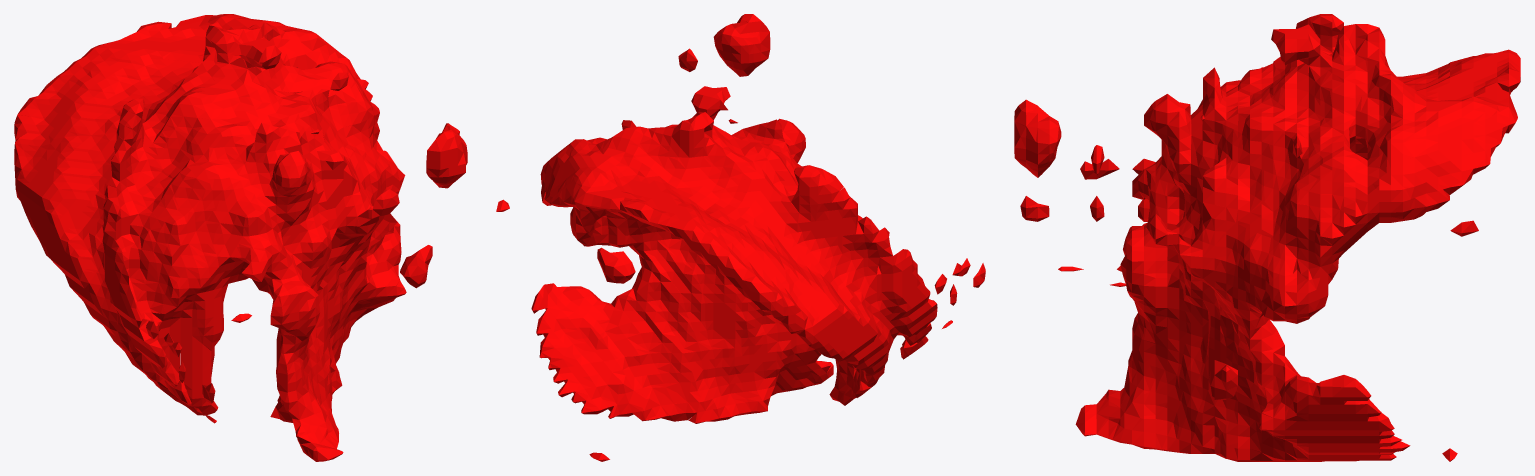
File: B939XXXX-1_valve_34.obj
The picture shows the model from 3 angles, left to right: view 1: azimuth 30°, elevation 25°; view 2: azimuth 150°, elevation 25°; view 3: azimuth 270°, elevation 25°; orthographic projection. The views are drawn at different scales.
Parts seen in each view (by area): view 1: 34_valve; view 2: 34_valve; view 3: 34_valve.
Part boxes in pixels (left/top/right/bottom): 34_valve: left=14, top=14, right=467, bottom=461; 34_valve: left=496, top=14, right=985, bottom=461; 34_valve: left=1014, top=14, right=1520, bottom=461.
Bounding box in the file's own units: 75.84 × 76.97 × 85.95.
